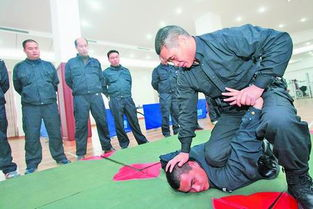fall: (154, 97, 294, 197)
